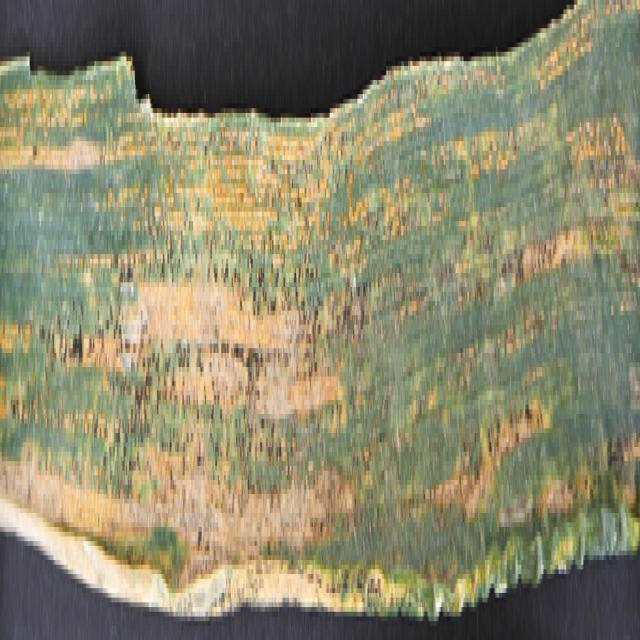leaf rust: (1, 5, 638, 626)
